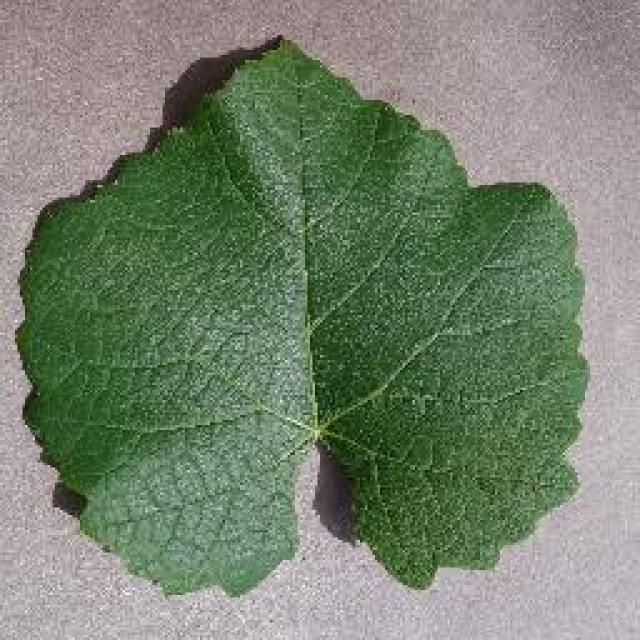Grape___healthy: (18, 40, 588, 592)
